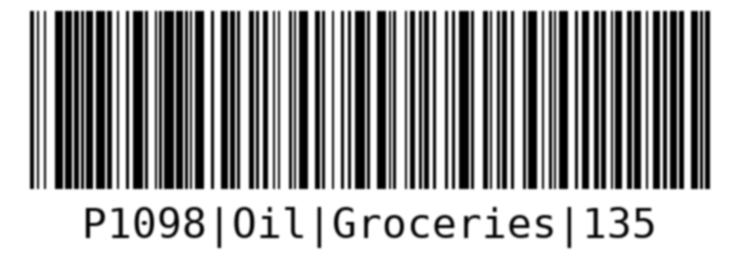milk: (21, 4, 717, 259)
